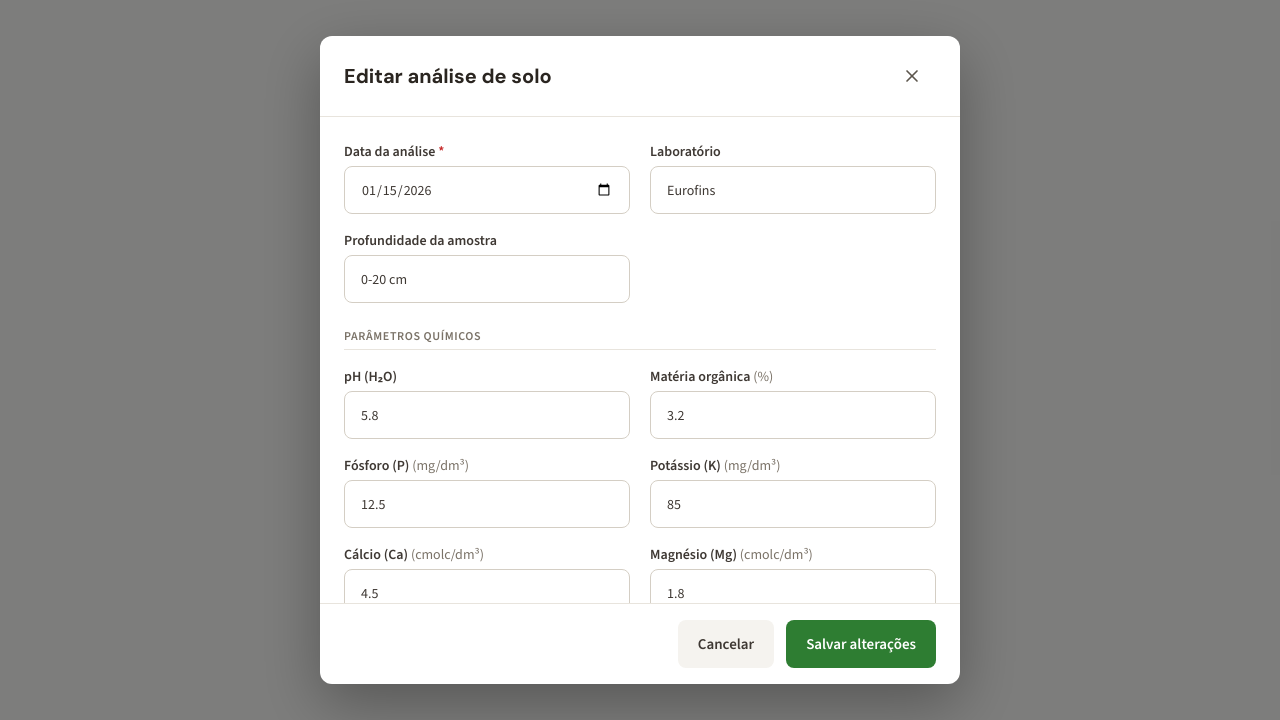
Test: EditSoilAnalysisModal › shows error when date is cleared
The image size is (1280, 720).
Clear the date field labelled "Data da análise *" at x=487, y=190, box left=344, top=166, right=630, bottom=214
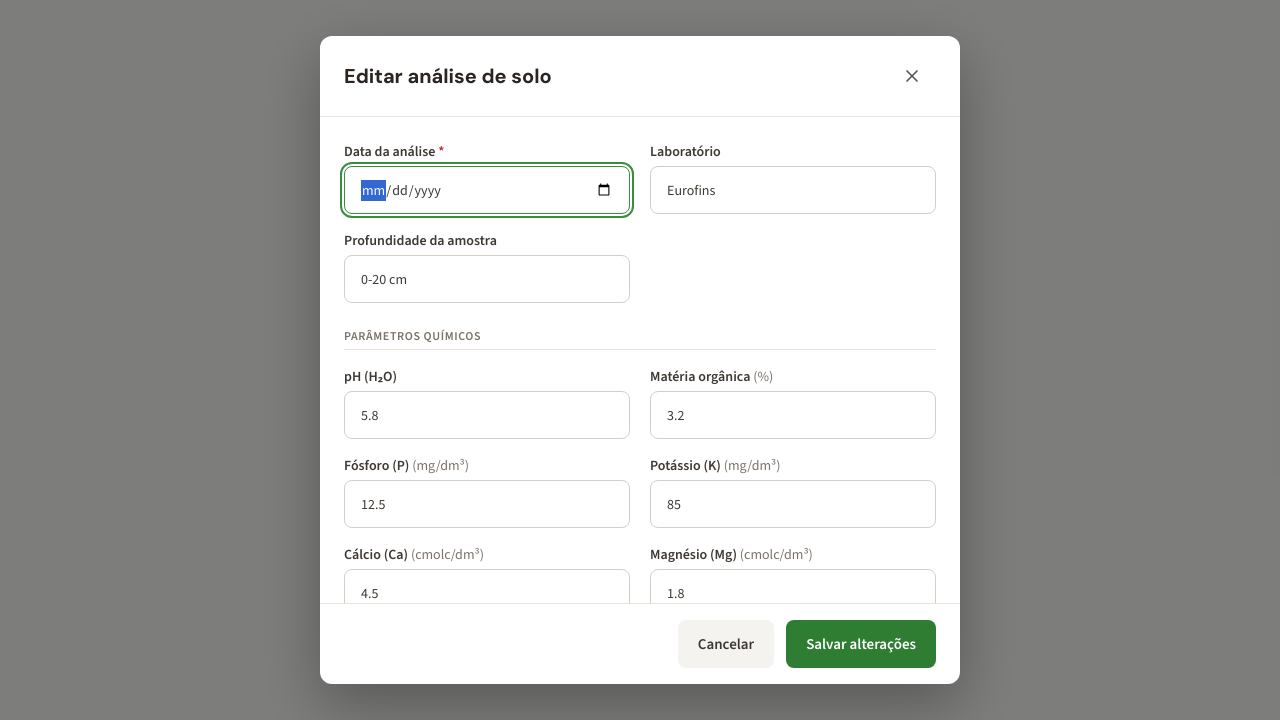
Click the button "Salvar alterações" at x=861, y=644, box left=786, top=620, right=936, bottom=668
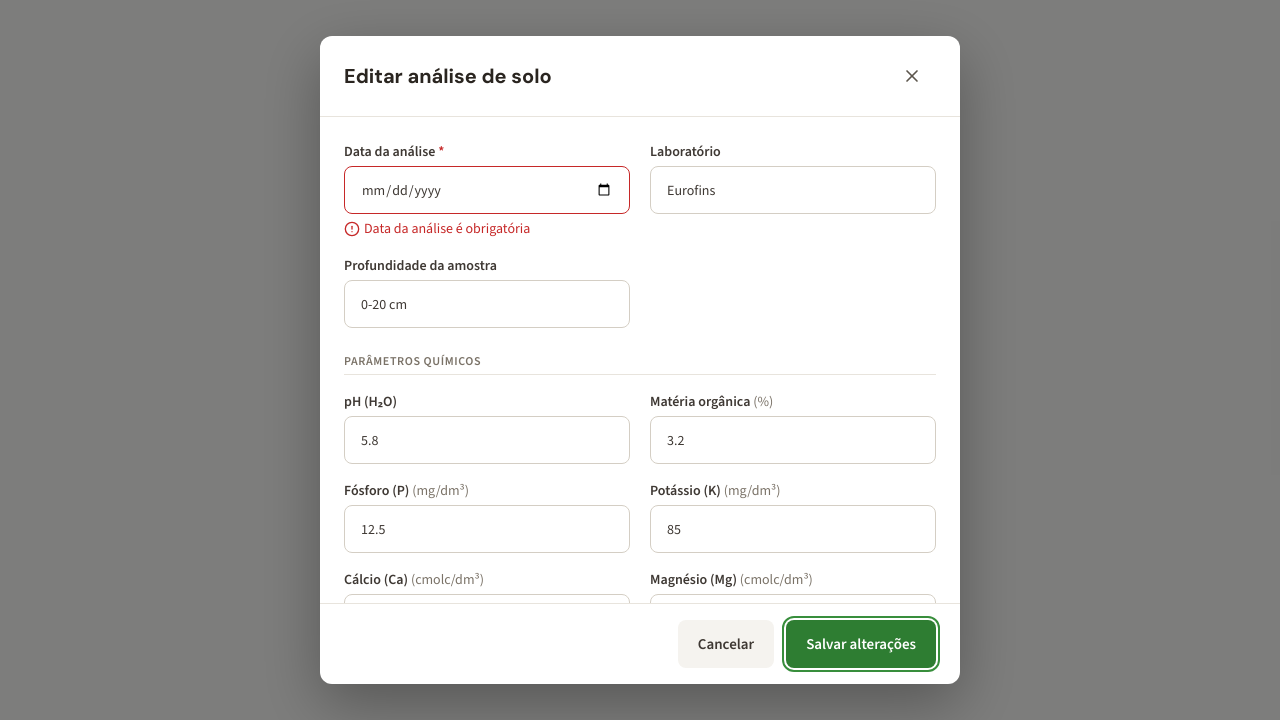
Expected: the text "Data da análise é obrigatória" is shown, left=344, top=219, right=530, bottom=238
